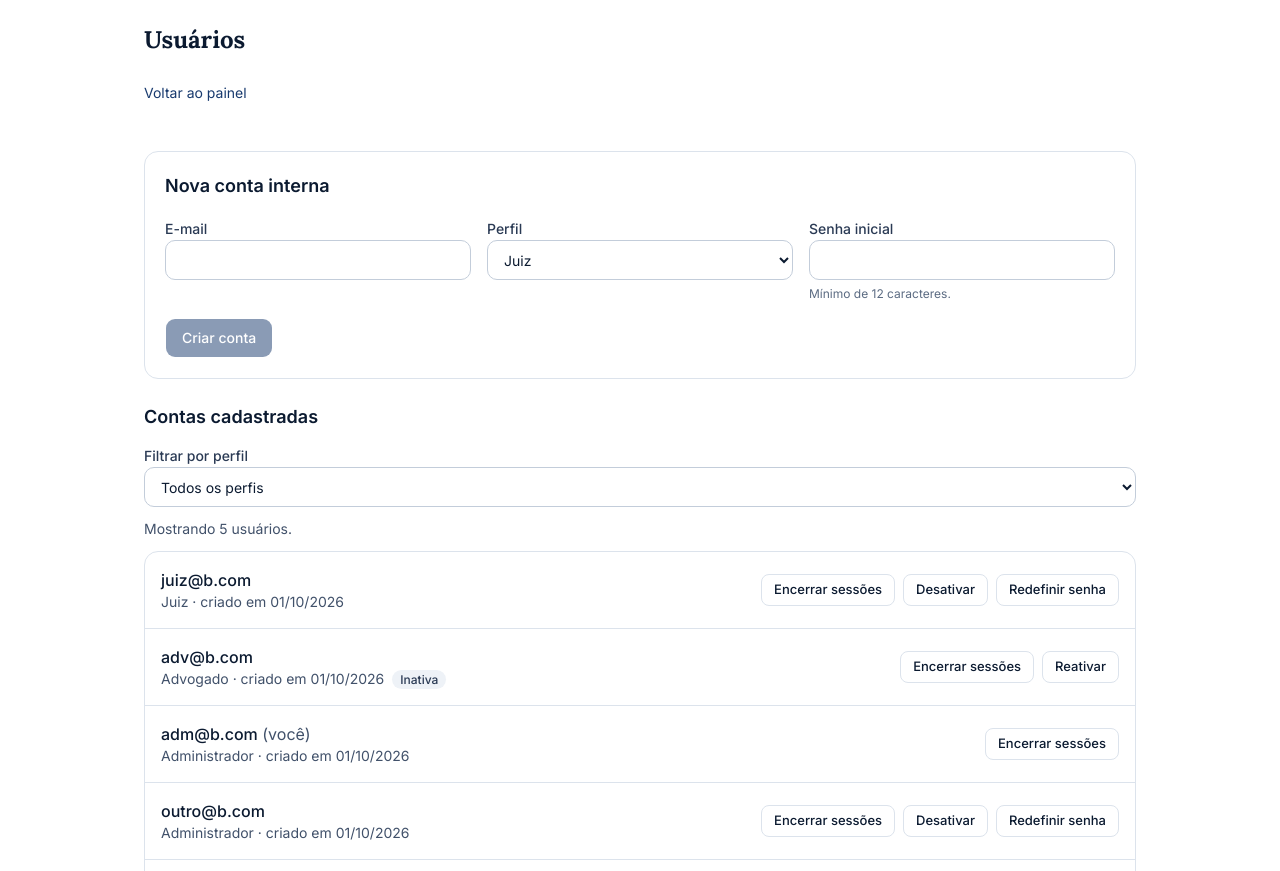
Test case: UsersAdmin password-manager hints › the reset form carries a hidden read-only username input with the session e-mail
The image size is (1280, 871).
Expected: the text "juiz@b.com" is shown, [161, 570, 251, 590]
Click the button "Redefinir senha" in the row of "juiz@b.com" at (1058, 590), box [996, 574, 1119, 606]
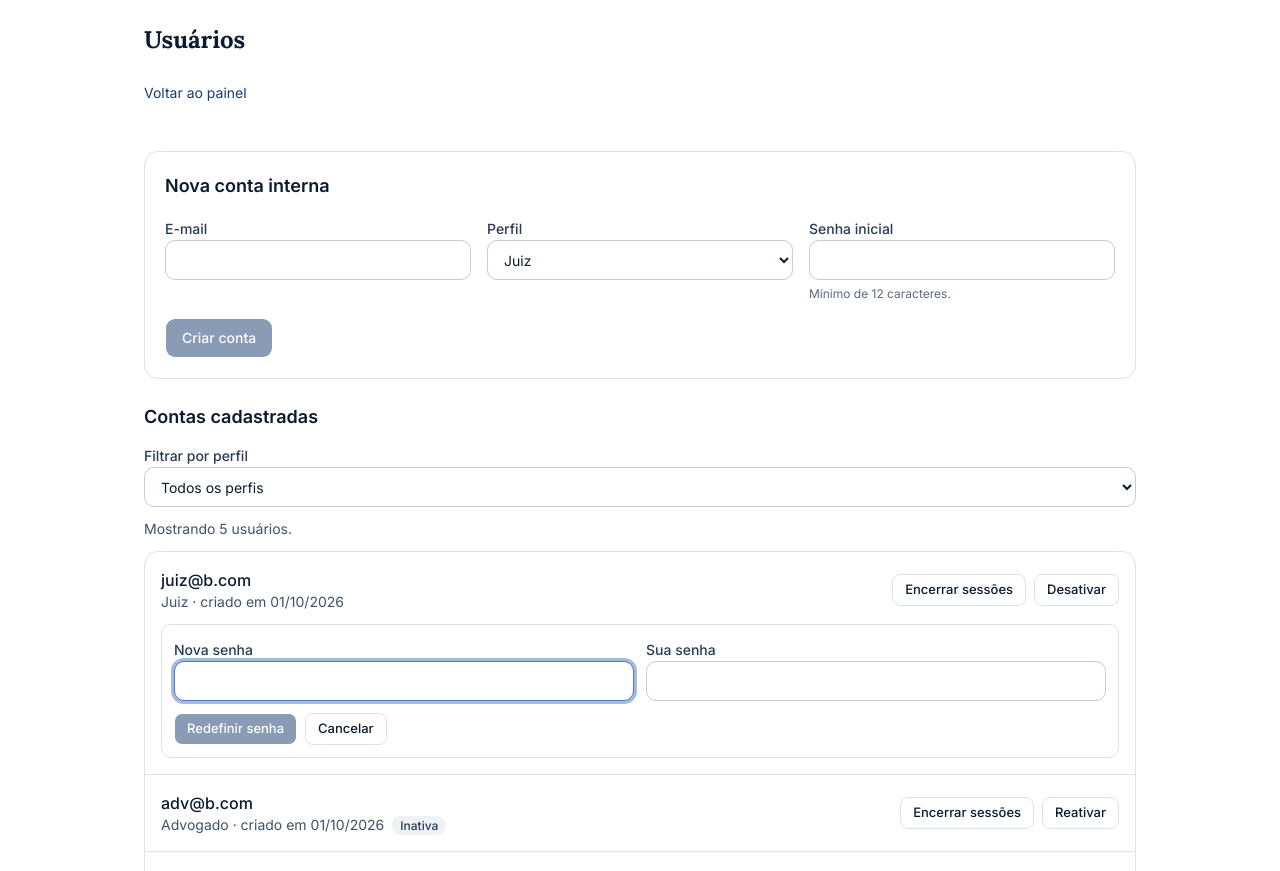
Result: the form "Nova senha Sua senha Redefinir senha Cancelar" holds "adm@b.com" at [161, 624, 1119, 758]
